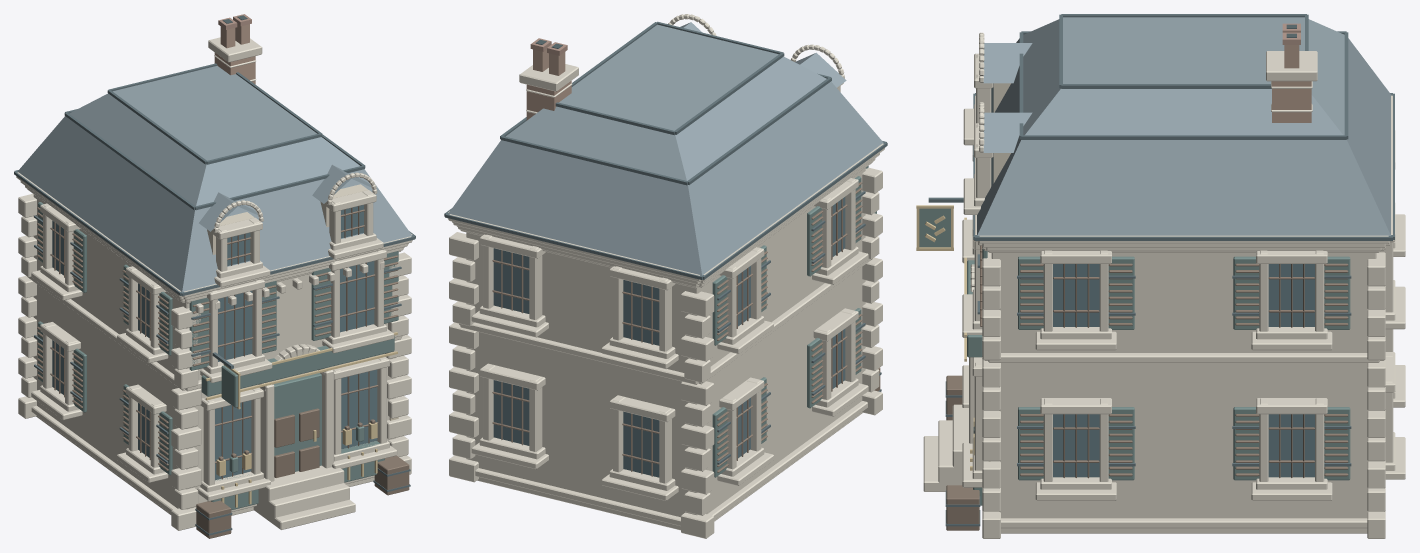
File: Apothecary.glb
3 renders of one model, left to right at view 1: azimuth 30°, elevation 25°; view 2: azimuth 150°, elevation 25°; view 3: azimuth 270°, elevation 25°, orthographic. The views are drawn at different scales.
Parts seen in each view (by area): view 1: Apothecary_limestone, Apothecary_roof, Apothecary_teal, Apothecary_oak, Apothecary_glass, Apothecary_iron, Apothecary_brass, Apothecary_brick, Apothecary_plaster; view 2: Apothecary_limestone, Apothecary_roof, Apothecary_glass, Apothecary_iron, Apothecary_oak, Apothecary_teal, Apothecary_brick; view 3: Apothecary_limestone, Apothecary_roof, Apothecary_teal, Apothecary_oak, Apothecary_glass, Apothecary_iron, Apothecary_brick, Apothecary_brass, Apothecary_plaster.
Boxes of the visible parts, <box> form: Apothecary_limestone: <box>16,37,412,530</box>; Apothecary_roof: <box>17,65,412,292</box>; Apothecary_teal: <box>38,202,398,509</box>; Apothecary_oak: <box>37,206,409,538</box>; Apothecary_glass: <box>52,205,377,479</box>; Apothecary_iron: <box>14,63,415,535</box>; Apothecary_brass: <box>205,332,397,507</box>; Apothecary_brick: <box>214,24,255,84</box>; Apothecary_plaster: <box>207,184,367,254</box>; Apothecary_limestone: <box>447,14,884,538</box>; Apothecary_roof: <box>448,22,883,275</box>; Apothecary_glass: <box>493,197,845,477</box>; Apothecary_iron: <box>444,21,887,464</box>; Apothecary_oak: <box>492,182,880,476</box>; Apothecary_teal: <box>712,166,876,477</box>; Apothecary_brick: <box>526,49,571,120</box>; Apothecary_limestone: <box>923,32,1405,538</box>; Apothecary_roof: <box>977,17,1391,235</box>; Apothecary_teal: <box>919,208,1350,505</box>; Apothecary_oak: <box>946,245,1348,530</box>; Apothecary_glass: <box>1053,264,1314,477</box>; Apothecary_iron: <box>928,14,1394,526</box>; Apothecary_brick: <box>1272,45,1311,122</box>; Apothecary_brass: <box>916,205,974,470</box>; Apothecary_plaster: <box>993,83,1010,183</box>.
Bounding box in the file's own units: 5.48 × 7.94 × 7.37.
